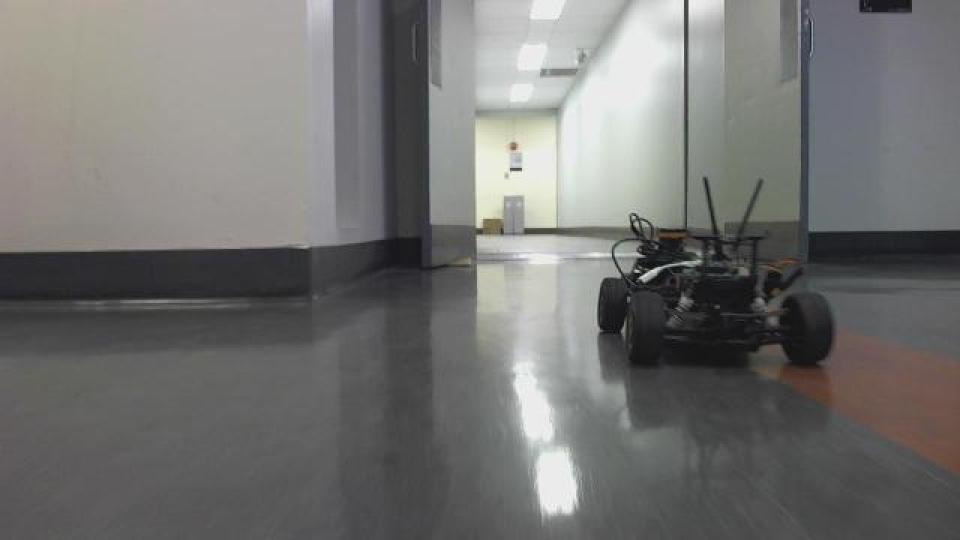car: (593, 174, 837, 369)
